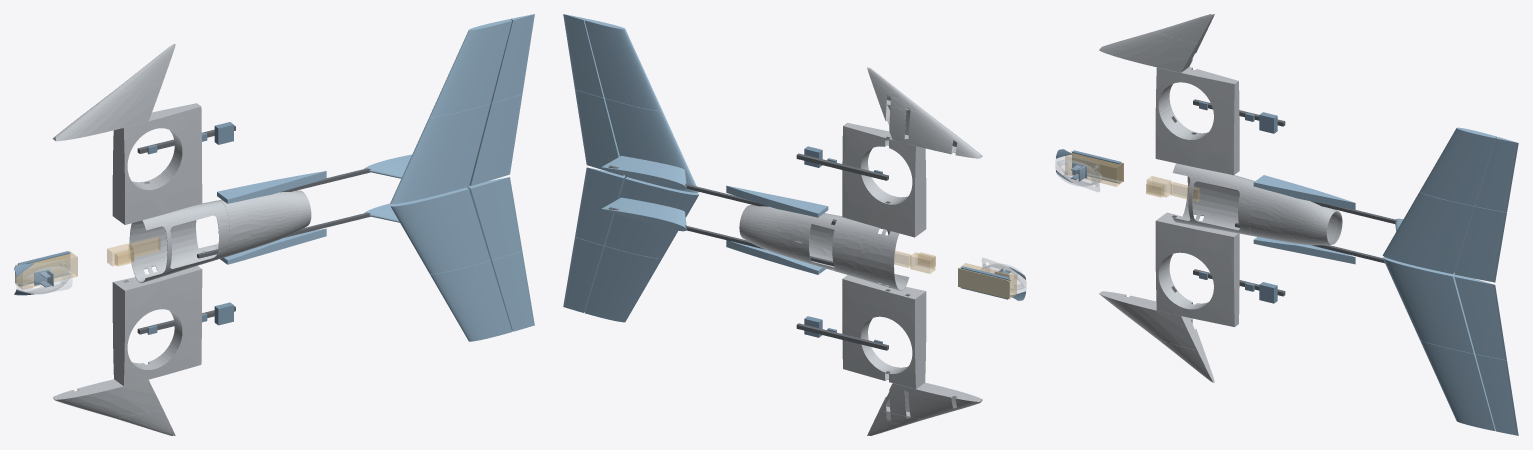
The model's file is v19w_four_in_wings.glb.
3 renders of one model, left to right at view 1: azimuth 30°, elevation 25°; view 2: azimuth 150°, elevation 25°; view 3: azimuth 330°, elevation 25°, orthographic. The views are drawn at different scales.
Parts seen in each view (by area): view 1: WLC_hollow_wing, WRC_hollow_wing, NEW_tail_stab_R1, NEW_tail_stab_L1, F3_hollow_body, NEW_tail_stab_R2, NEW_tail_stab_L2, F4_hollow_body, NEW_tail_elevator_L1, WRE1_falcon_wing, NEW_tail_elevator_R1, WLE1_falcon_wing (+12 smaller); view 2: WLC_hollow_wing, WRC_hollow_wing, F3_hollow_body, F4_hollow_body, NEW_tail_stab_R2, NEW_tail_stab_R1, NEW_tail_stab_L2, NEW_tail_stab_L1, WRE1_falcon_wing, NEW_tail_elevator_L1, WLE1_falcon_wing, NEW_tail_elevator_R1 (+15 smaller); view 3: WRC_hollow_wing, WLC_hollow_wing, NEW_tail_stab_R1, NEW_tail_stab_L1, F4_hollow_body, F3_hollow_body, NEW_tail_stab_R2, NEW_tail_stab_L2, NEW_tail_elevator_L1, NEW_tail_elevator_R1, WLE1_falcon_wing, WRE1_falcon_wing (+9 smaller).
Boxes of the visible parts, x1=… form: WLC_hollow_wing: x1=112, y1=266, x2=202, y2=385; WRC_hollow_wing: x1=112, y1=103, x2=202, y2=224; NEW_tail_stab_R1: x1=390, y1=103, x2=490, y2=203; NEW_tail_stab_L1: x1=390, y1=187, x2=490, y2=273; F3_hollow_body: x1=129, y1=200, x2=229, y2=283; NEW_tail_stab_R2: x1=429, y1=19, x2=511, y2=116; NEW_tail_stab_L2: x1=430, y1=260, x2=511, y2=341; F4_hollow_body: x1=215, y1=190, x2=311, y2=257; NEW_tail_elevator_L1: x1=467, y1=177, x2=522, y2=259; WRE1_falcon_wing: x1=52, y1=82, x2=162, y2=141; NEW_tail_elevator_R1: x1=469, y1=94, x2=522, y2=185; WLE1_falcon_wing: x1=52, y1=379, x2=162, y2=418; WLC_hollow_wing: x1=842, y1=275, x2=926, y2=388; WRC_hollow_wing: x1=842, y1=123, x2=926, y2=237; F3_hollow_body: x1=819, y1=213, x2=909, y2=290; F4_hollow_body: x1=739, y1=205, x2=833, y2=267; NEW_tail_stab_R2: x1=584, y1=19, x2=662, y2=110; NEW_tail_stab_R1: x1=605, y1=98, x2=699, y2=192; NEW_tail_stab_L2: x1=584, y1=246, x2=661, y2=322; NEW_tail_stab_L1: x1=605, y1=177, x2=699, y2=258; WRE1_falcon_wing: x1=879, y1=103, x2=982, y2=158; NEW_tail_elevator_L1: x1=575, y1=167, x2=626, y2=245; WLE1_falcon_wing: x1=879, y1=382, x2=982, y2=419; NEW_tail_elevator_R1: x1=575, y1=89, x2=624, y2=175; WRC_hollow_wing: x1=1155, y1=67, x2=1239, y2=174; WLC_hollow_wing: x1=1155, y1=212, x2=1239, y2=326; NEW_tail_stab_R1: x1=1382, y1=192, x2=1475, y2=273; NEW_tail_stab_L1: x1=1382, y1=257, x2=1474, y2=353; F4_hollow_body: x1=1248, y1=186, x2=1342, y2=245; F3_hollow_body: x1=1172, y1=163, x2=1254, y2=236; NEW_tail_stab_R2: x1=1419, y1=127, x2=1497, y2=205; NEW_tail_stab_L2: x1=1420, y1=340, x2=1495, y2=430; NEW_tail_elevator_L1: x1=1454, y1=275, x2=1506, y2=360; NEW_tail_elevator_R1: x1=1454, y1=206, x2=1506, y2=282; WLE1_falcon_wing: x1=1099, y1=291, x2=1202, y2=350; WRE1_falcon_wing: x1=1099, y1=31, x2=1202, y2=72.
Size of the model in its own units: 1289 by 954 by 134.
